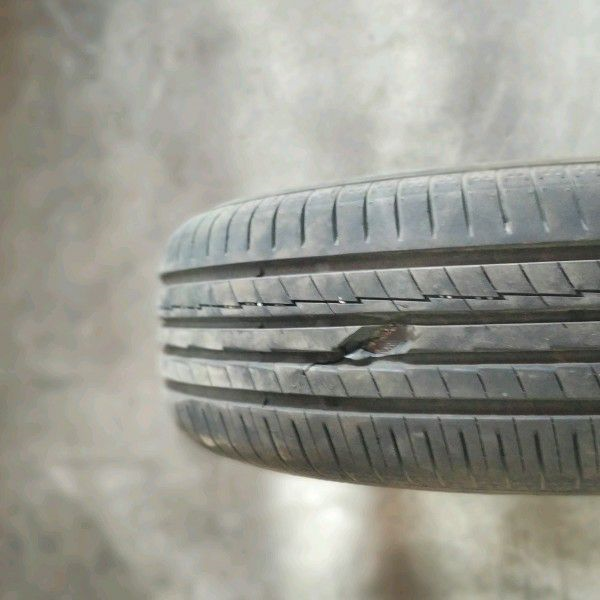tr: (299, 309, 418, 376)
